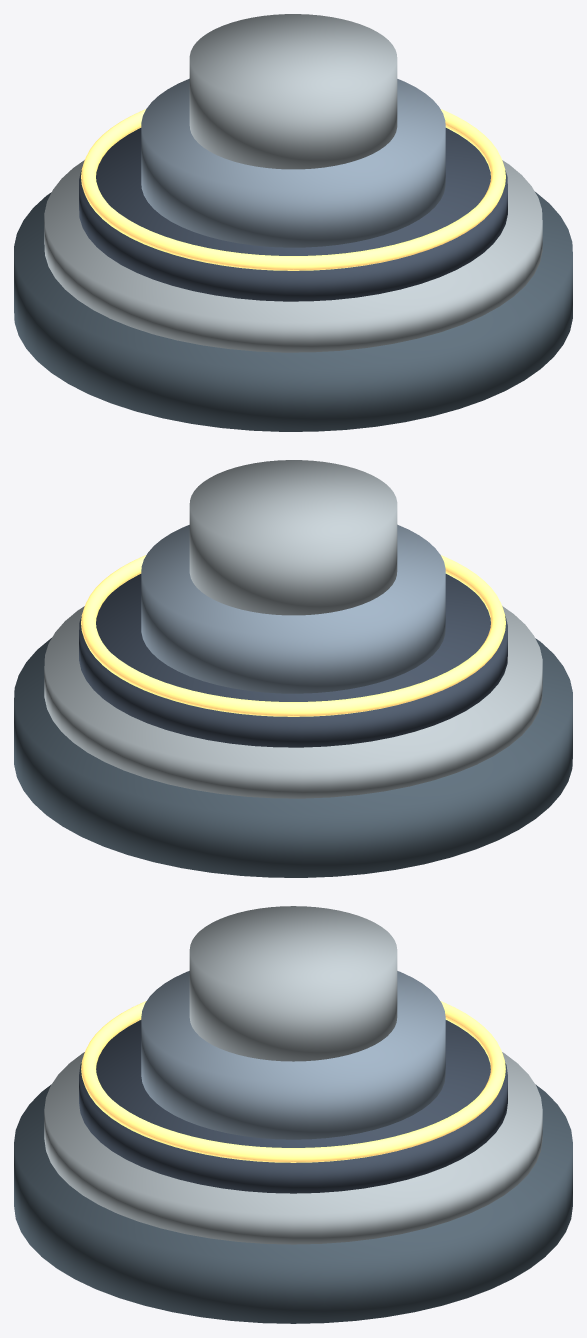
Rendered from L84_03_RotationalTestRigPedestal_Fitted.fbx.
The picture shows the model from 3 angles, top to bottom: view 1: azimuth 30°, elevation 25°; view 2: azimuth 150°, elevation 25°; view 3: azimuth 270°, elevation 25°; orthographic projection.
Parts seen in each view (by area): view 1: L84_RotationalTestRigPedestal_Static__tint91A3AD, L84_RotationalTestRigPedestal_Static__tint1C2933, L84_RotationalTestRigPedestal_Static__tint59738F, L84_RotationalTestRigPedestal_Static__tint131B26, L84_RotationalTestRigPedestal_Static__tintFFA333; view 2: L84_RotationalTestRigPedestal_Static__tint91A3AD, L84_RotationalTestRigPedestal_Static__tint1C2933, L84_RotationalTestRigPedestal_Static__tint59738F, L84_RotationalTestRigPedestal_Static__tint131B26, L84_RotationalTestRigPedestal_Static__tintFFA333; view 3: L84_RotationalTestRigPedestal_Static__tint91A3AD, L84_RotationalTestRigPedestal_Static__tint1C2933, L84_RotationalTestRigPedestal_Static__tint59738F, L84_RotationalTestRigPedestal_Static__tint131B26, L84_RotationalTestRigPedestal_Static__tintFFA333.
Part boxes in pixels (box(x1,y1,x2,y2)): L84_RotationalTestRigPedestal_Static__tint91A3AD: box(44, 14, 542, 352); L84_RotationalTestRigPedestal_Static__tint1C2933: box(14, 192, 572, 431); L84_RotationalTestRigPedestal_Static__tint59738F: box(141, 78, 445, 247); L84_RotationalTestRigPedestal_Static__tint131B26: box(79, 128, 507, 301); L84_RotationalTestRigPedestal_Static__tintFFA333: box(81, 109, 505, 270); L84_RotationalTestRigPedestal_Static__tint91A3AD: box(44, 460, 542, 798); L84_RotationalTestRigPedestal_Static__tint1C2933: box(14, 638, 572, 877); L84_RotationalTestRigPedestal_Static__tint59738F: box(141, 524, 445, 693); L84_RotationalTestRigPedestal_Static__tint131B26: box(79, 574, 507, 747); L84_RotationalTestRigPedestal_Static__tintFFA333: box(81, 555, 505, 716); L84_RotationalTestRigPedestal_Static__tint91A3AD: box(44, 906, 542, 1244); L84_RotationalTestRigPedestal_Static__tint1C2933: box(14, 1084, 572, 1323); L84_RotationalTestRigPedestal_Static__tint59738F: box(141, 971, 445, 1139); L84_RotationalTestRigPedestal_Static__tint131B26: box(79, 1020, 507, 1193); L84_RotationalTestRigPedestal_Static__tintFFA333: box(81, 1001, 505, 1162).
Bounding box in the file's own units: 38.78 × 19.58 × 38.78.
